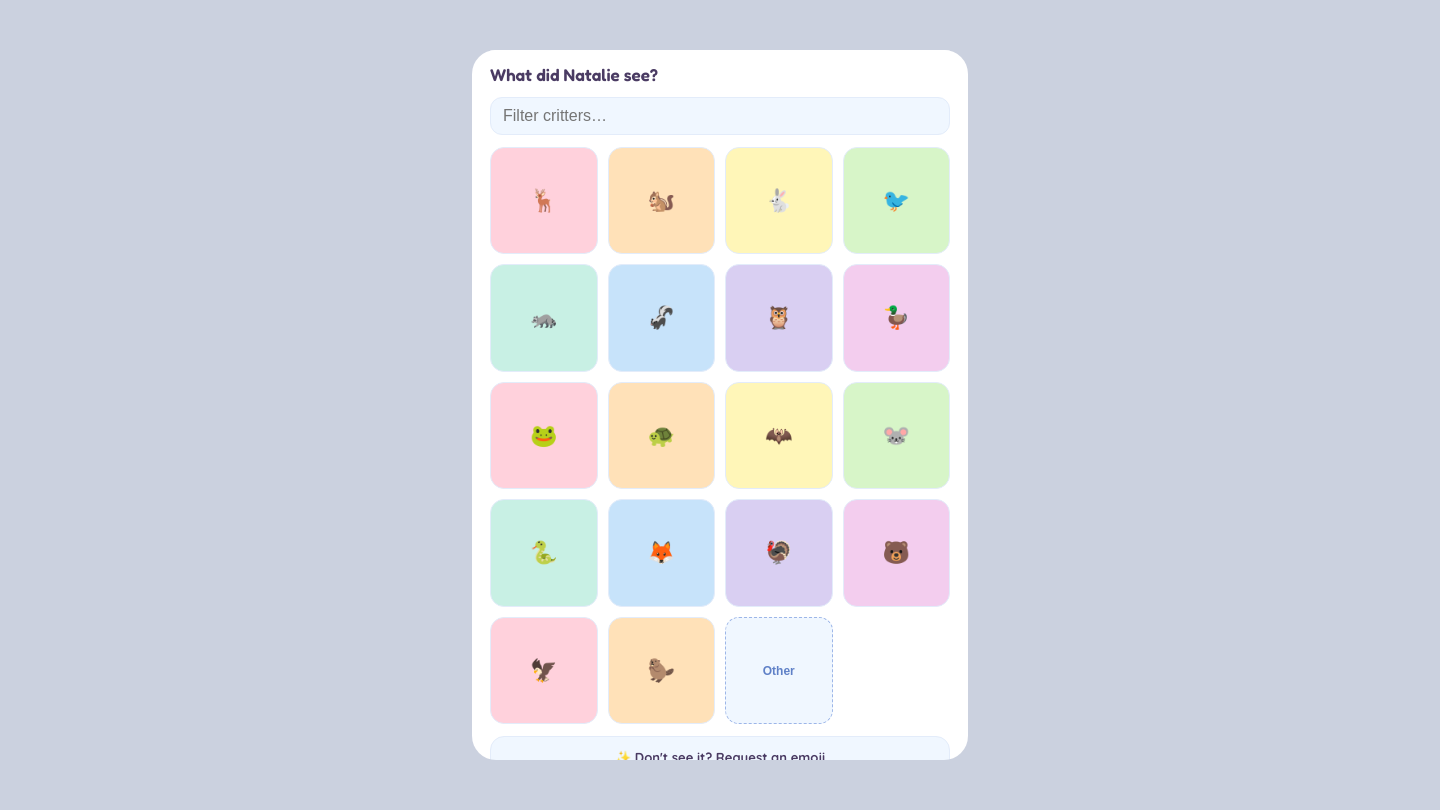
it: LogSightingFlow › Back returns to the picker
Click the button named "fox": (661, 553) top-left (608, 499), bottom-right (715, 607)
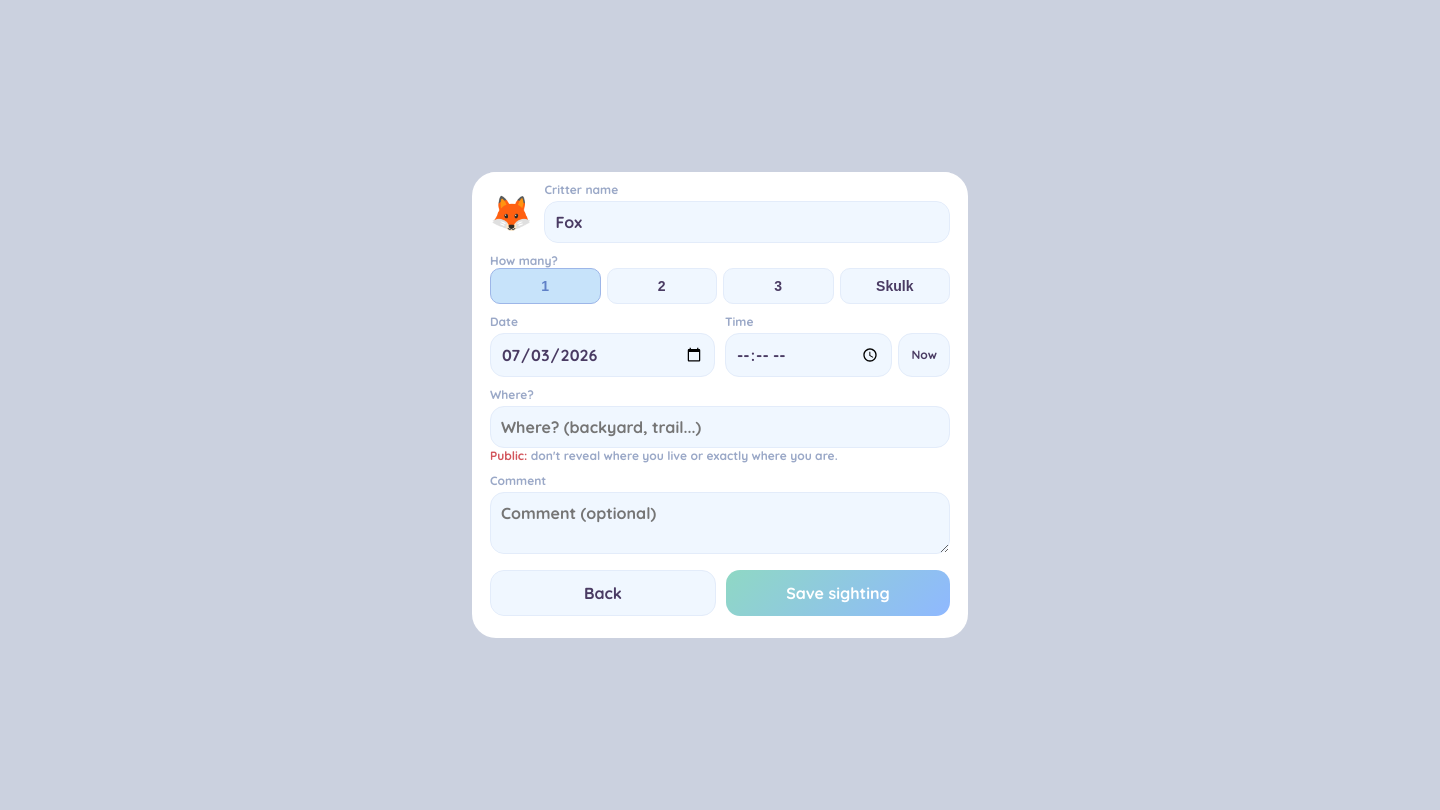
Click the button "Back": (603, 593) top-left (490, 570), bottom-right (716, 616)
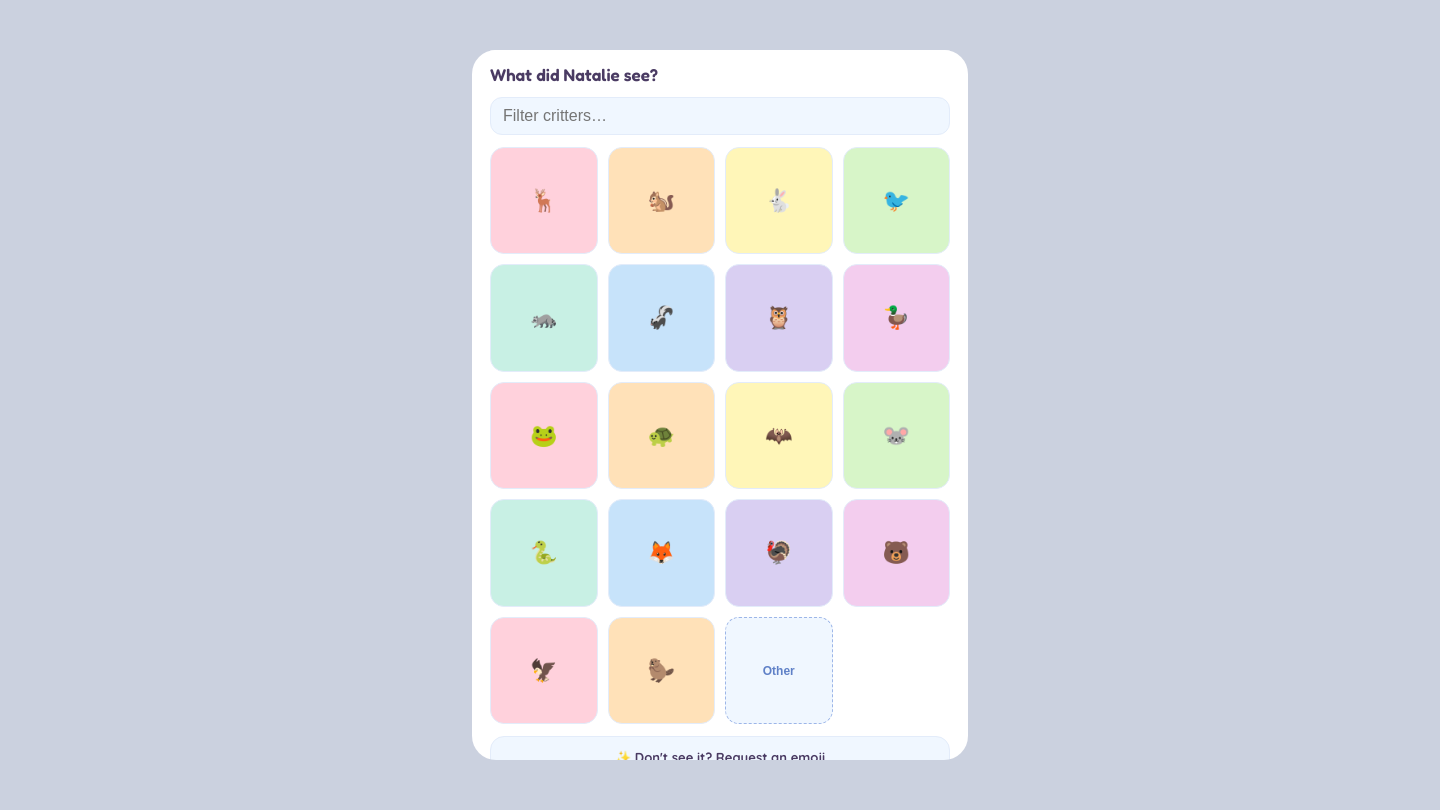
Expected: the heading "What did Natalie see?" is shown, top-left (490, 64), bottom-right (658, 85)
